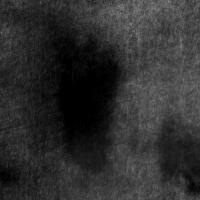patches: (0, 17, 123, 141), (104, 57, 200, 181), (53, 36, 124, 174), (52, 136, 136, 200), (155, 118, 200, 194)
